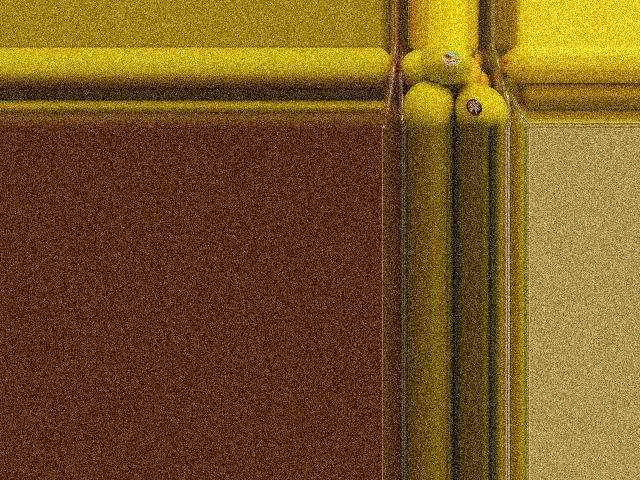apple: (419, 45, 477, 84)
